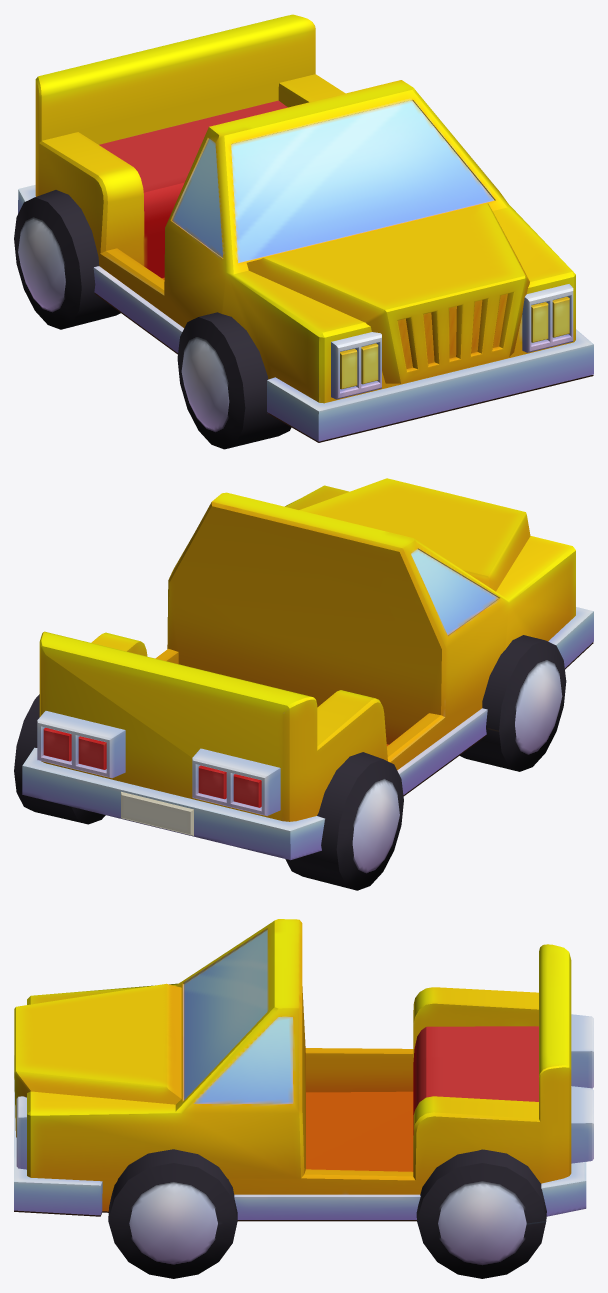
The model's file is taxi.fbx.
3 views of the same model, one above another, from view 1: azimuth 30°, elevation 25°; view 2: azimuth 150°, elevation 25°; view 3: azimuth 270°, elevation 25° (orthographic). The views are drawn at different scales.
Visible parts, largest first — view 1: Cube.065; view 2: Cube.065; view 3: Cube.065.
Boxes of the visible parts, box(x1,y1,x2,y2) form: Cube.065: box(14, 14, 593, 449); Cube.065: box(14, 478, 593, 890); Cube.065: box(14, 919, 593, 1278).
Size of the model in its own units: 2.04 by 1.41 by 3.09.
